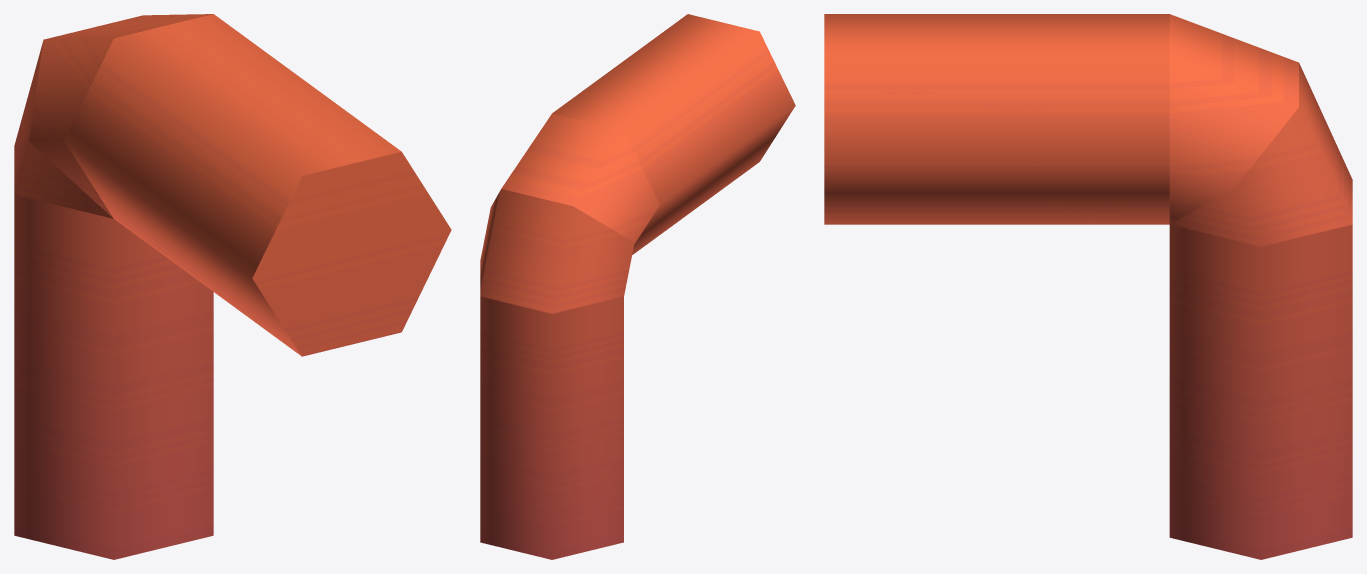
File: pipe-corner.glb
The picture shows the model from 3 angles, left to right: view 1: azimuth 30°, elevation 25°; view 2: azimuth 150°, elevation 25°; view 3: azimuth 270°, elevation 25°; orthographic projection. The views are drawn at different scales.
Parts seen in each view (by area): view 1: pipe-corner; view 2: pipe-corner; view 3: pipe-corner.
Part boxes in pixels (x1,y1,x2,y2): pipe-corner: [14, 14, 451, 559]; pipe-corner: [480, 14, 795, 559]; pipe-corner: [824, 14, 1352, 559].
Size of the model in its own units: 0.2 by 0.5 by 0.5.
Materials: 1 (1 with a texture image).
